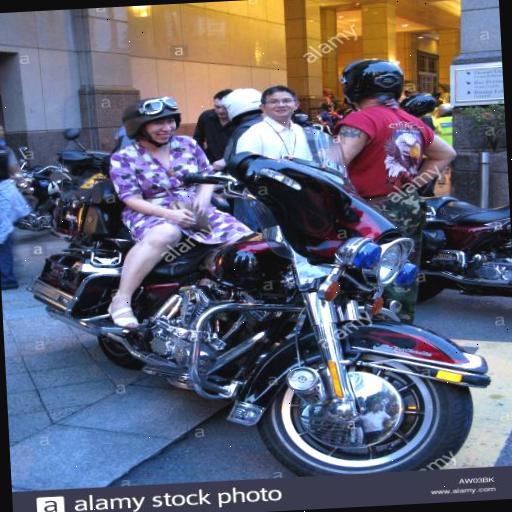no helmet: (53, 84, 276, 456)
